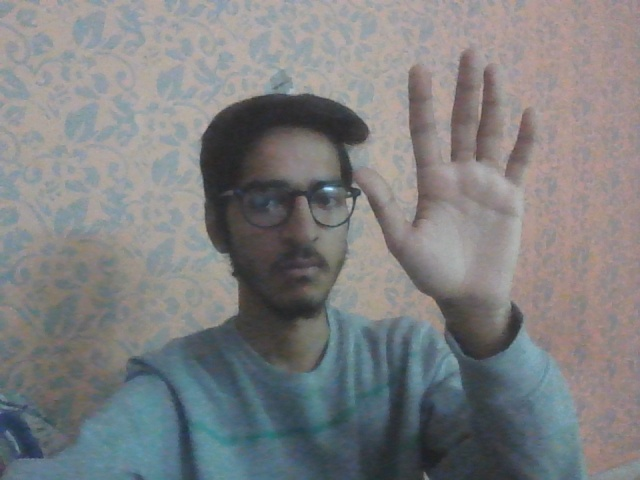Hello: (350, 43, 546, 312)
